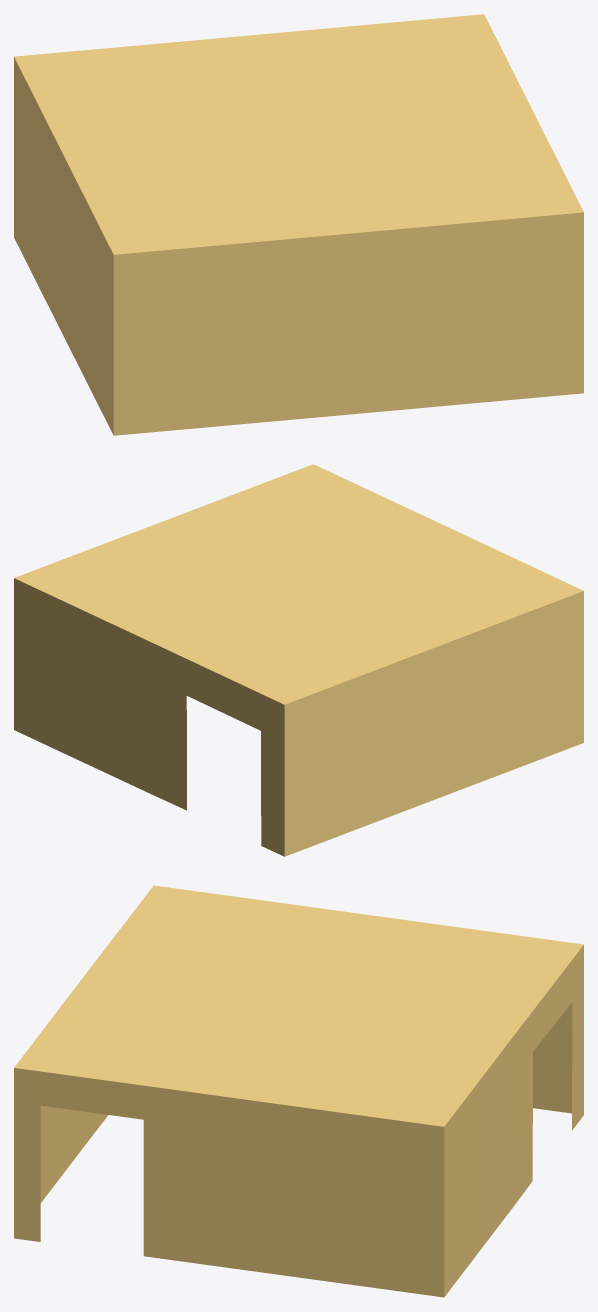
Rendered from Close_Lore_Wall_experimental2.fbx.
3 renders of one model, top to bottom at view 1: azimuth 30°, elevation 25°; view 2: azimuth 150°, elevation 25°; view 3: azimuth 270°, elevation 25°, orthographic. The views are drawn at different scales.
Parts seen in each view (by area): view 1: Close_Lore_Wall_low; view 2: Close_Lore_Wall_low; view 3: Close_Lore_Wall_low.
Boxes of the visible parts, x1,y1,x2,y2 form: Close_Lore_Wall_low: (14,14,583,435); Close_Lore_Wall_low: (14,464,583,856); Close_Lore_Wall_low: (14,885,583,1297).
Size of the model in its own units: 1516 by 500 by 1512.
